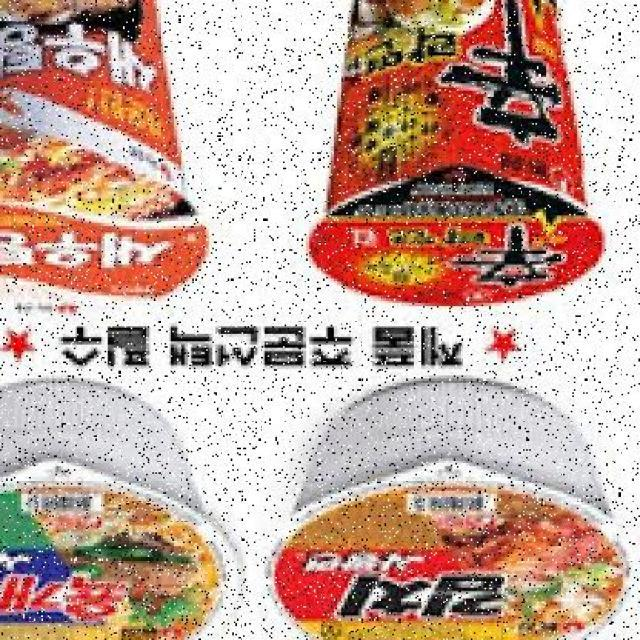Miscellaneous: (310, 0, 608, 306), (282, 386, 633, 640), (0, 383, 229, 640)
